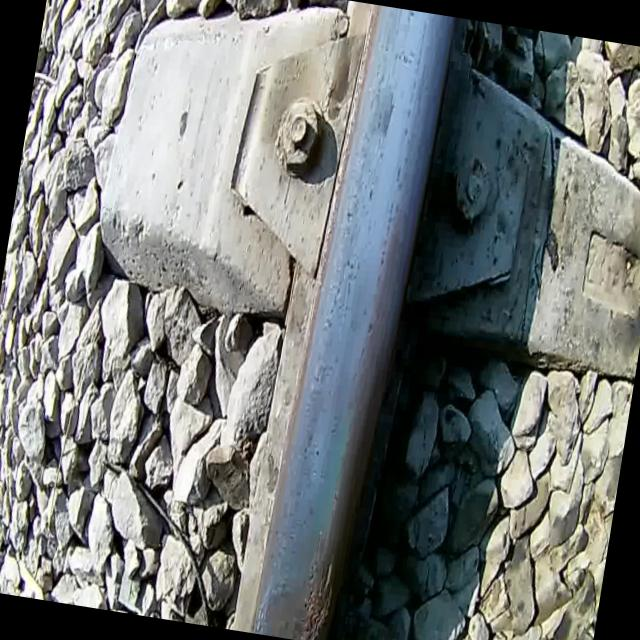Spallings: (298, 552, 339, 640)
Squats: (257, 575, 316, 640)
